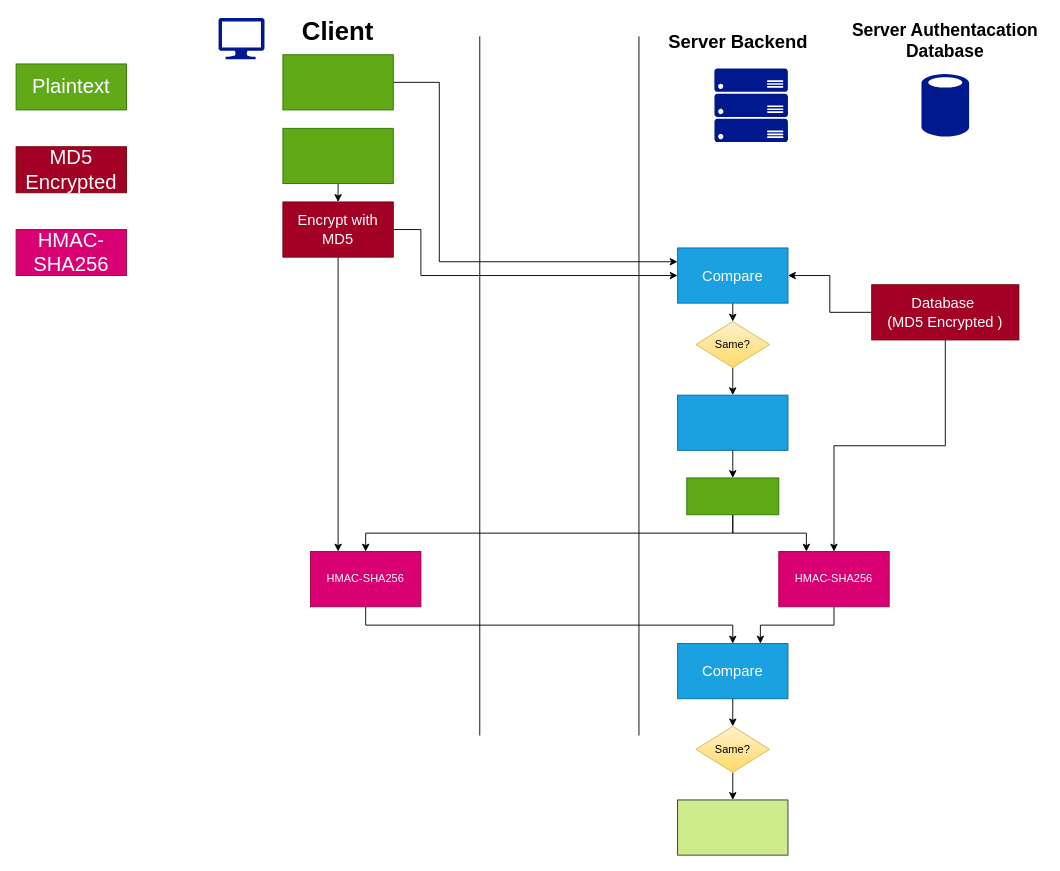
This 1060x871 diagram has some shape labels left out. Here are the shapes that lost their labels. From the top down, the centre of each, then its label:
At pixel 337 82: "Send UserName".
At pixel 337 155: "Password".
At pixel 732 422: "Generate chanllenge".
At pixel 732 496: "8 random byte".
At pixel 732 827: "log in!".
